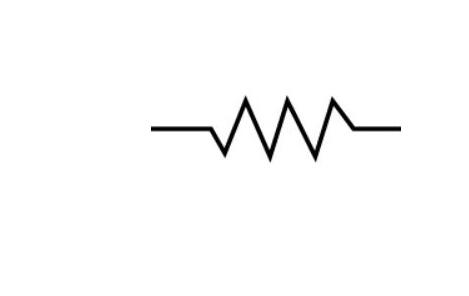resistor: (190, 85, 371, 168)
